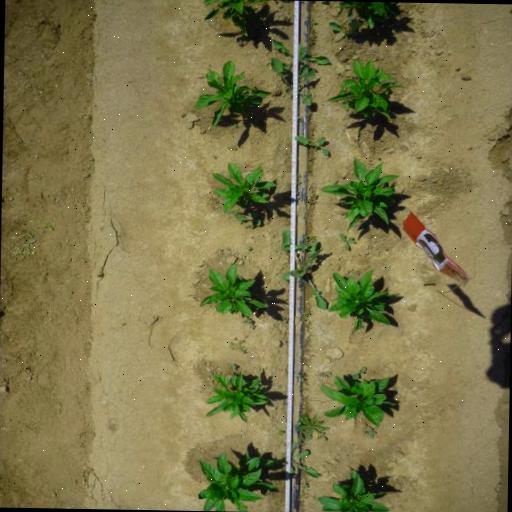plant: (320, 157, 400, 231), (328, 58, 408, 124), (193, 450, 277, 512), (326, 268, 400, 336), (194, 60, 272, 124), (198, 261, 268, 318), (202, 370, 272, 424), (207, 160, 277, 212), (322, 378, 395, 426), (316, 468, 392, 512), (201, 0, 264, 37), (333, 1, 406, 31)
weed: (278, 228, 330, 310), (268, 57, 316, 107), (270, 38, 330, 70), (272, 441, 321, 479), (327, 7, 363, 42), (292, 412, 330, 444), (294, 136, 328, 156), (233, 212, 261, 226), (227, 338, 248, 354), (338, 232, 356, 250), (294, 172, 302, 204), (351, 366, 367, 380), (362, 428, 377, 440), (243, 318, 255, 330), (300, 310, 312, 322), (302, 234, 316, 244), (308, 193, 318, 206), (296, 372, 308, 382), (278, 314, 288, 326), (318, 370, 332, 378), (308, 34, 318, 45), (244, 246, 252, 255), (242, 224, 253, 230), (305, 112, 313, 119), (302, 484, 310, 490), (229, 364, 237, 370), (307, 156, 315, 162), (276, 430, 284, 436), (310, 19, 316, 26), (282, 16, 289, 22), (231, 210, 241, 214), (296, 116, 301, 124), (232, 122, 238, 128), (287, 166, 292, 173), (235, 40, 242, 45), (302, 324, 310, 328), (306, 170, 313, 174), (310, 496, 316, 499), (309, 132, 313, 136)
